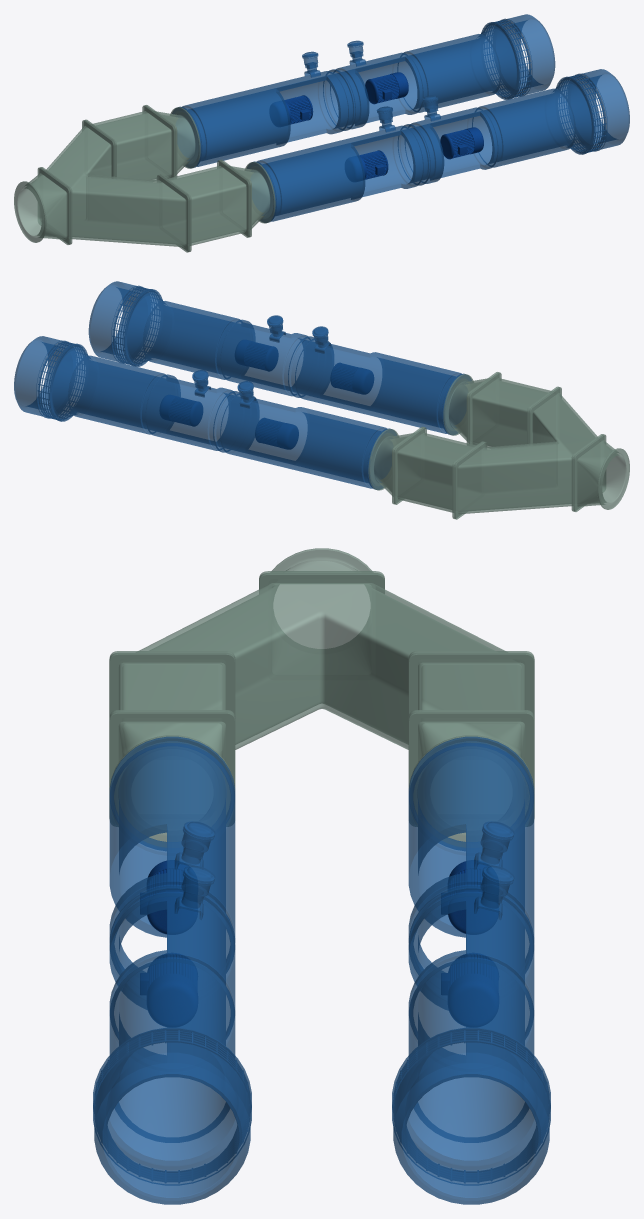
The model's file is main.FBX.
3 views of the same model, one above another, from view 1: azimuth 30°, elevation 25°; view 2: azimuth 150°, elevation 25°; view 3: azimuth 270°, elevation 25° (orthographic). The views are drawn at different scales.
Parts seen in each view (by area): view 1: 对象001, Box160, Box001, 对象113, 对象125, 对象123, 对象127; view 2: 对象001, Box001, Box160, 对象123, 对象127, 对象125, 对象113; view 3: 对象001, Box001, Box160, 对象113, 对象125, 对象127, 对象123.
Boxes of the visible parts, left/top/right/bottom form: 对象001: left=14, top=105, right=275, bottom=252; Box160: left=247, top=69, right=629, bottom=222; Box001: left=172, top=14, right=555, bottom=167; 对象113: left=365, top=72, right=408, bottom=104; 对象125: left=440, top=127, right=483, bottom=159; 对象123: left=269, top=95, right=313, bottom=126; 对象127: left=345, top=150, right=388, bottom=181; 对象001: left=368, top=372, right=629, bottom=519; Box001: left=14, top=336, right=396, bottom=489; Box160: left=88, top=281, right=471, bottom=434; 对象123: left=255, top=418, right=298, bottom=449; 对象127: left=330, top=363, right=373, bottom=394; 对象125: left=235, top=340, right=278, bottom=371; 对象113: left=159, top=395, right=202, bottom=426; 对象001: left=109, top=548, right=534, bottom=847; Box001: left=392, top=736, right=550, bottom=1204; Box160: left=93, top=736, right=251, bottom=1204; 对象113: left=441, top=953, right=498, bottom=1027; 对象125: left=140, top=953, right=197, bottom=1027; 对象127: left=140, top=860, right=197, bottom=934; 对象123: left=441, top=860, right=498, bottom=934.
Size of the model in its own units: 450 by 66.81 by 164.
Materials: 3 (1 with a texture image).
